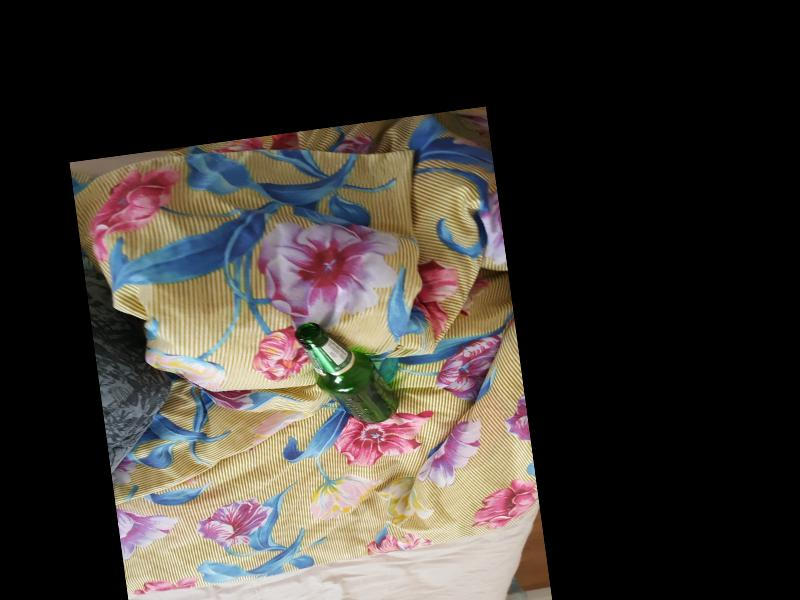Beer: (295, 311, 401, 431)
